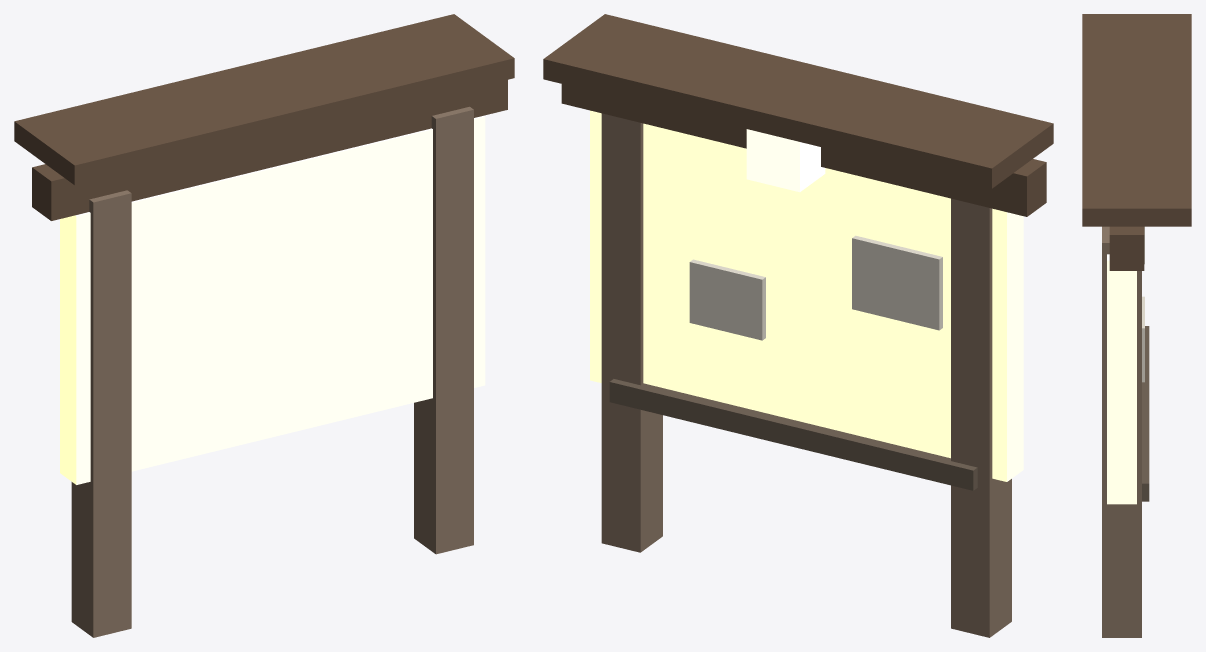
Rendered from jobBoard_v2.glb.
The picture shows the model from 3 angles, left to right: view 1: azimuth 30°, elevation 25°; view 2: azimuth 150°, elevation 25°; view 3: azimuth 270°, elevation 25°; orthographic projection. The views are drawn at different scales.
Visible parts, largest first — view 1: jobBoard_v2; view 2: jobBoard_v2; view 3: jobBoard_v2.
Part boxes in pixels (<box>): jobBoard_v2: <box>14,14,514,637</box>; jobBoard_v2: <box>543,14,1053,637</box>; jobBoard_v2: <box>1082,14,1191,637</box>.
Bounding box in the file's own units: 1.92 × 1.96 × 0.44.
